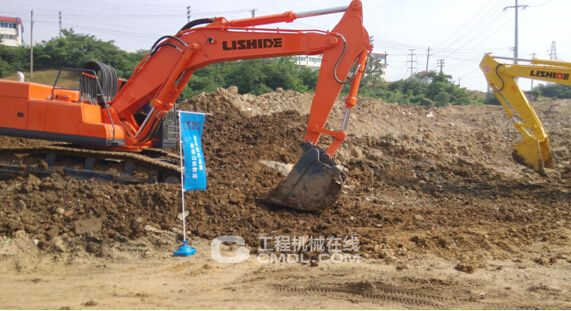excavator: (1, 1, 390, 218)
